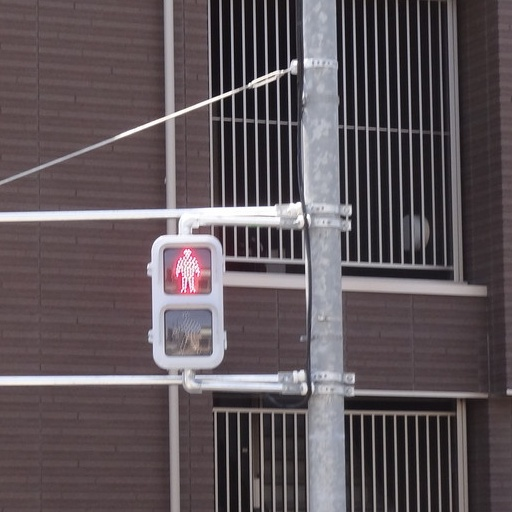Pedestrian_Signal_Red: (150, 231, 229, 365)
